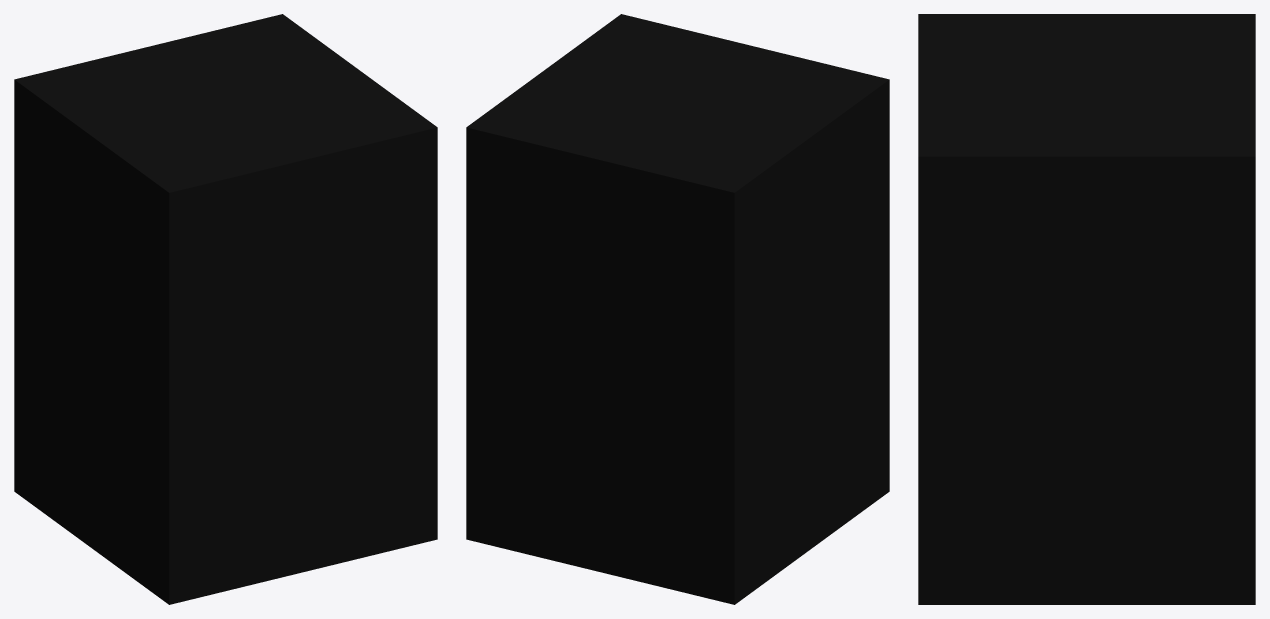
The model's file is drum.fbx.
3 views of the same model, side by side, from view 1: azimuth 30°, elevation 25°; view 2: azimuth 150°, elevation 25°; view 3: azimuth 270°, elevation 25° (orthographic). The views are drawn at different scales.
Parts seen in each view (by area): view 1: col_body; view 2: col_body; view 3: col_body.
Boxes of the visible parts, left/top/right/bottom form: col_body: left=14, top=14, right=437, bottom=604; col_body: left=466, top=14, right=889, bottom=604; col_body: left=918, top=14, right=1255, bottom=604.
Size of the model in its own units: 0.6 by 0.88 by 0.6.
Materials: 1 (1 with a texture image).
